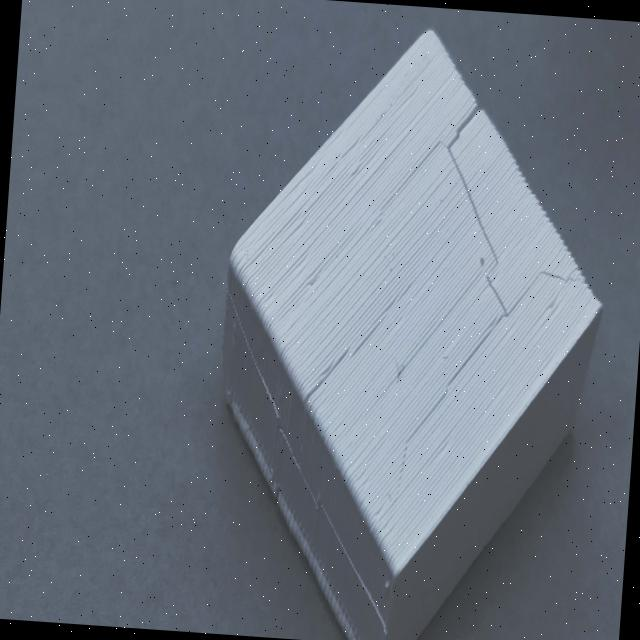cracks: (412, 87, 591, 334)
